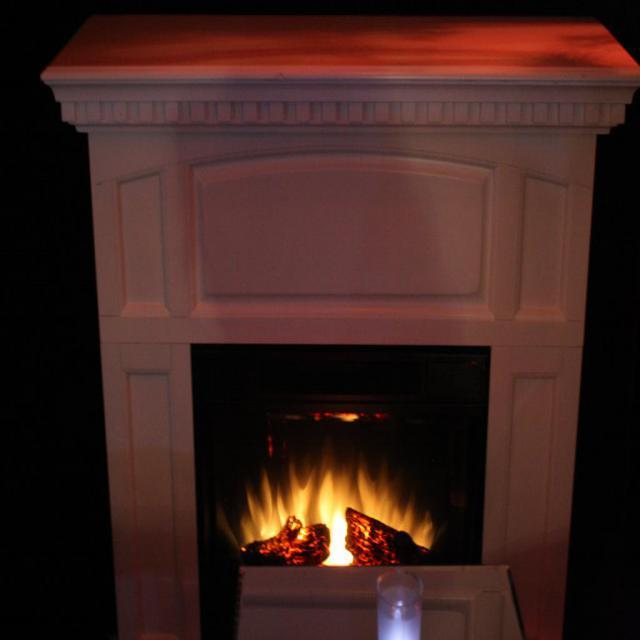Fire: (220, 440, 448, 568)
